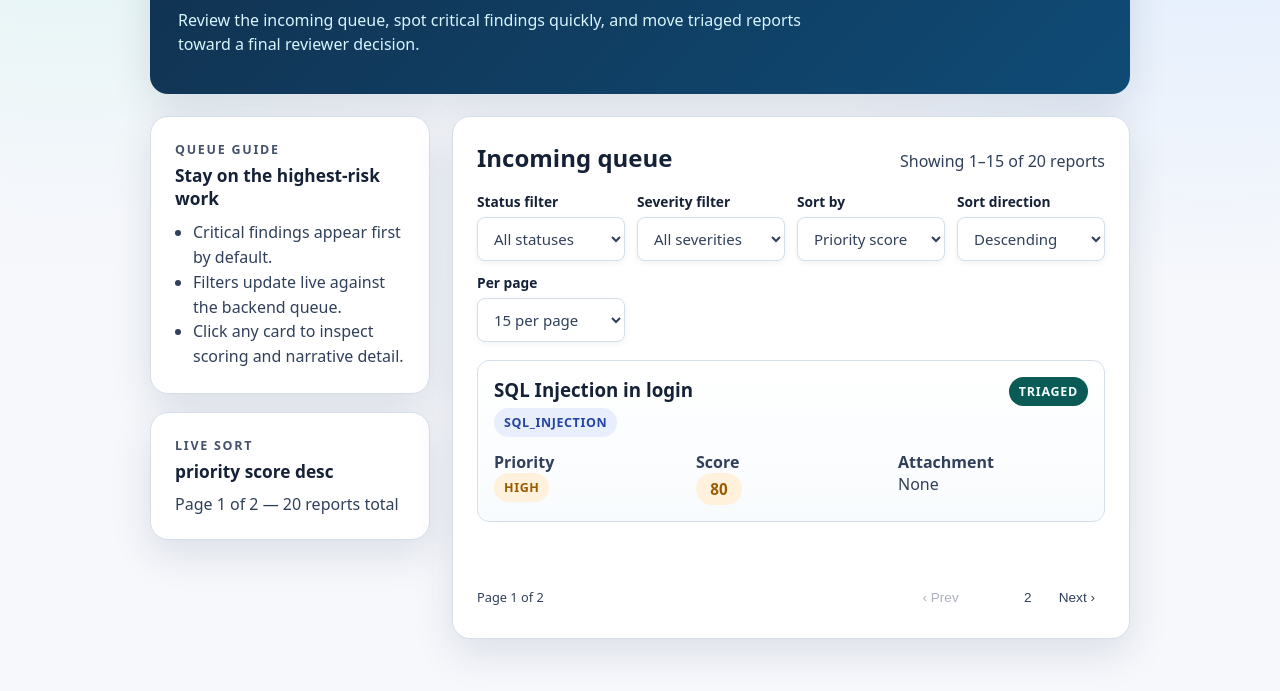
ReviewerReportsPage › navigates to the next page when Next button is clicked
(page scrolled)
expect the heading "SQL Injection in login" is shown: met, box x1=494 y1=377 x2=693 y2=402
Click the button with aria-label "next page" at point(1077, 597), box x1=1049 y1=580 x2=1105 y2=614
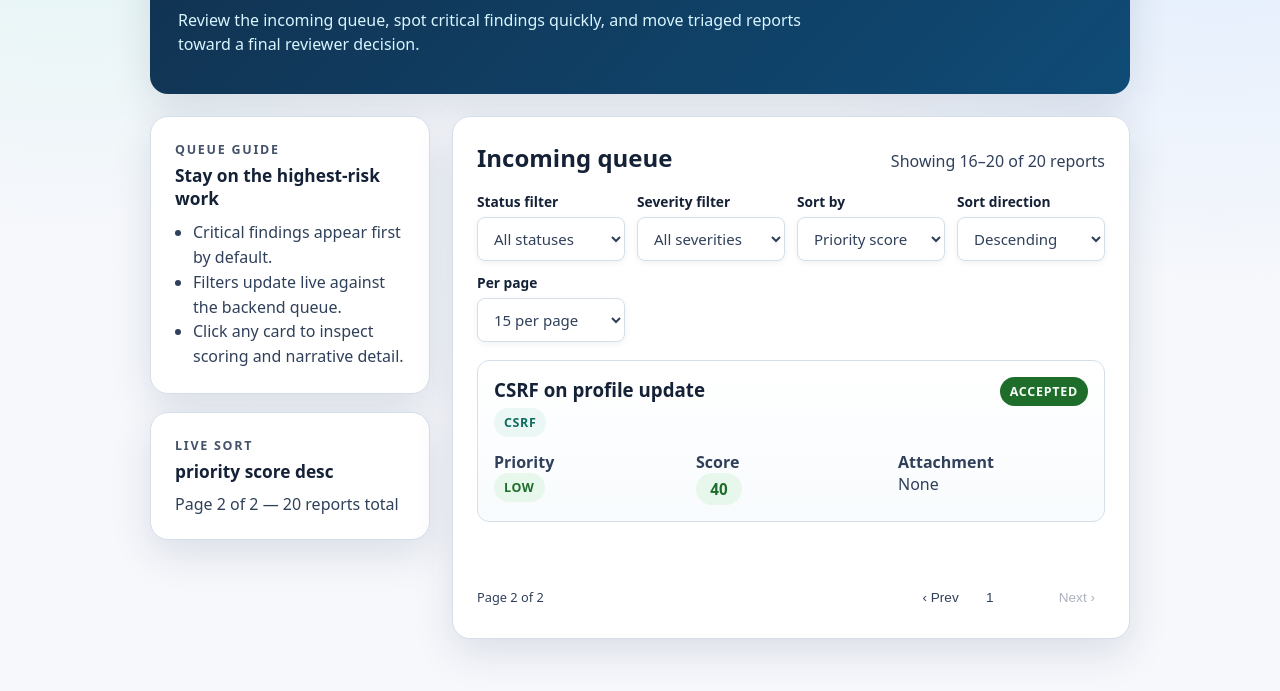
expect the heading "CSRF on profile update" is shown: met, box x1=494 y1=377 x2=705 y2=402
expect the button with aria-label "previous page" is enabled: met, box x1=912 y1=580 x2=969 y2=614
expect the button with aria-label "next page" is disabled: met, box x1=1049 y1=580 x2=1105 y2=614
